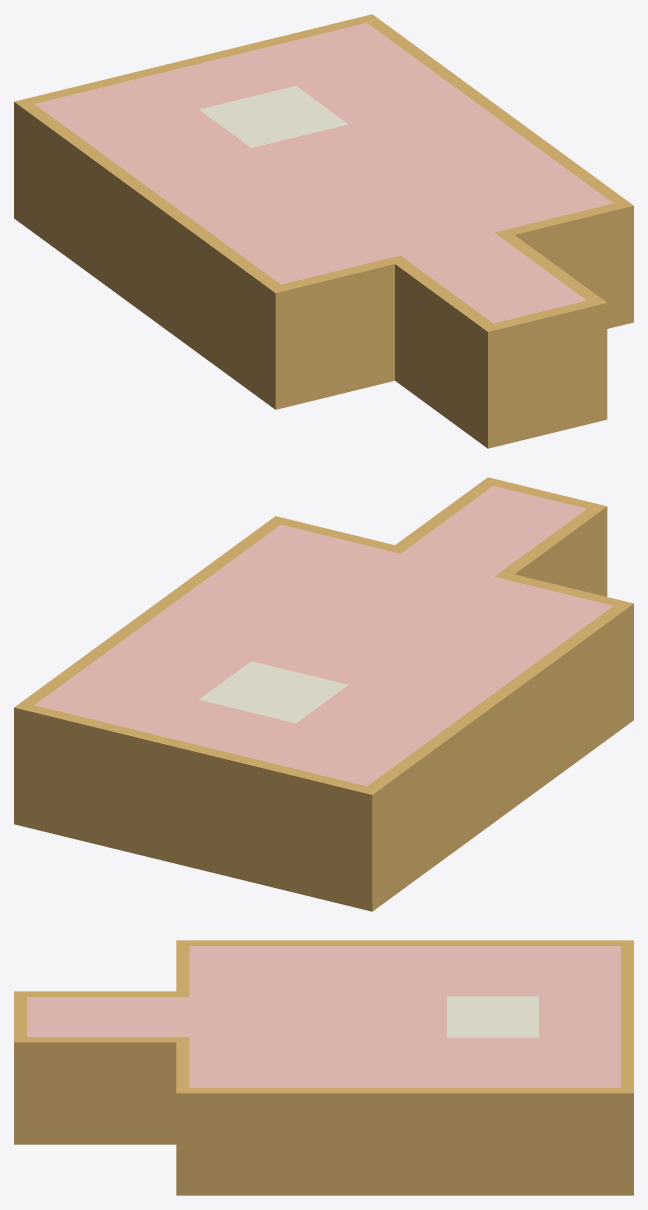
Rendered from beacon.fbx.
The picture shows the model from 3 angles, top to bottom: view 1: azimuth 30°, elevation 25°; view 2: azimuth 150°, elevation 25°; view 3: azimuth 270°, elevation 25°; orthographic projection. The views are drawn at different scales.
Parts seen in each view (by area): view 1: zdq_4; view 2: zdq_4; view 3: zdq_4.
Boxes of the visible parts, x1=… form: zdq_4: x1=14, y1=14, x2=633, y2=448; zdq_4: x1=14, y1=477, x2=633, y2=911; zdq_4: x1=14, y1=940, x2=633, y2=1195.
Size of the model in its own units: 118 by 36.59 by 201.
